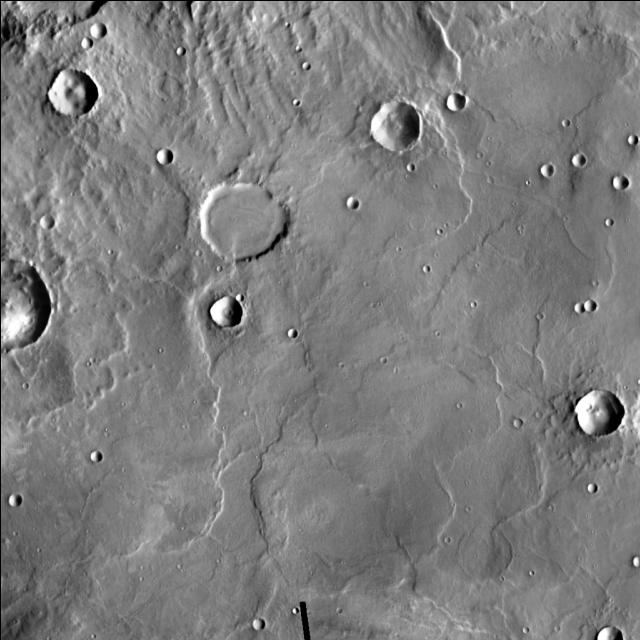crater: (485, 504, 573, 592), (190, 178, 276, 262), (449, 526, 503, 580), (362, 103, 411, 151), (41, 70, 88, 118), (568, 388, 614, 434), (202, 297, 232, 327), (588, 625, 614, 640), (438, 91, 458, 110), (82, 22, 99, 38), (148, 148, 164, 164), (30, 212, 46, 228), (604, 174, 618, 189), (563, 152, 577, 166), (532, 163, 546, 176), (0, 493, 13, 506), (82, 449, 94, 462), (244, 618, 256, 631), (338, 198, 351, 210), (625, 554, 637, 566), (576, 298, 588, 310), (566, 301, 578, 313), (73, 37, 85, 49), (578, 482, 590, 493), (388, 228, 400, 239), (279, 327, 289, 337), (620, 132, 630, 142), (552, 117, 562, 126), (506, 418, 514, 427), (175, 40, 183, 48), (293, 63, 301, 71), (596, 217, 604, 225), (227, 294, 235, 302), (13, 382, 21, 390), (592, 270, 600, 278), (521, 618, 528, 626), (534, 404, 542, 411), (486, 168, 493, 176), (404, 158, 411, 165), (419, 259, 426, 266), (378, 351, 385, 358), (289, 94, 297, 100), (476, 142, 482, 150), (536, 306, 542, 312), (194, 243, 200, 249), (292, 601, 298, 607), (454, 397, 460, 402), (636, 371, 640, 377)
